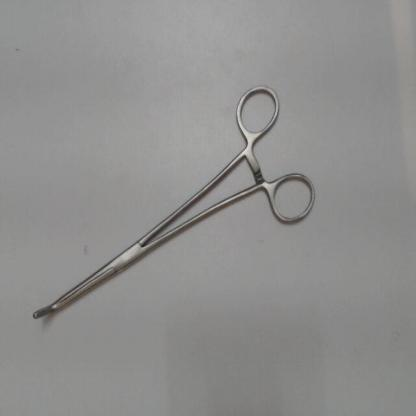Lahey Forceps: (23, 69, 320, 327)
